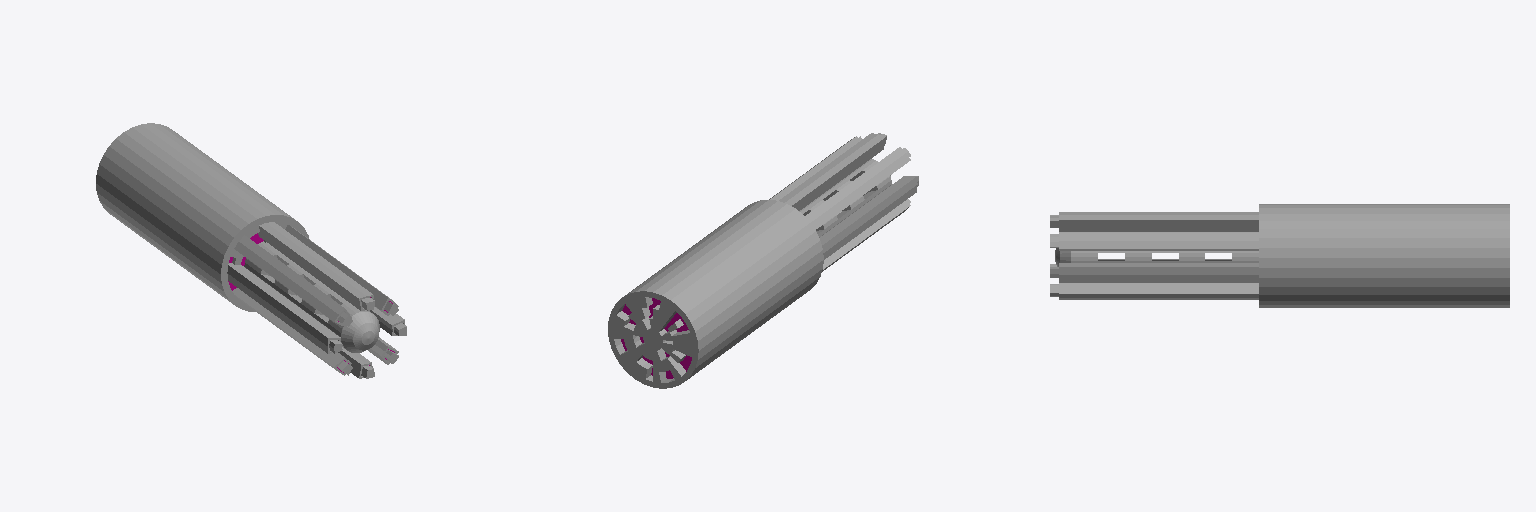
The model's file is gatlinggun.obj.
3 renders of one model, left to right at view 1: azimuth 30°, elevation 25°; view 2: azimuth 150°, elevation 25°; view 3: azimuth 270°, elevation 25°, orthographic.
Visible parts, largest first — view 1: GatlingGun.001_Cylinder.003; view 2: GatlingGun.001_Cylinder.003; view 3: GatlingGun.001_Cylinder.003.
Boxes of the visible parts, x1,y1,x2,y2 form: GatlingGun.001_Cylinder.003: [96, 123, 406, 378]; GatlingGun.001_Cylinder.003: [608, 133, 918, 388]; GatlingGun.001_Cylinder.003: [1050, 204, 1509, 307].
Size of the model in its own units: 0.32 by 0.32 by 1.4.